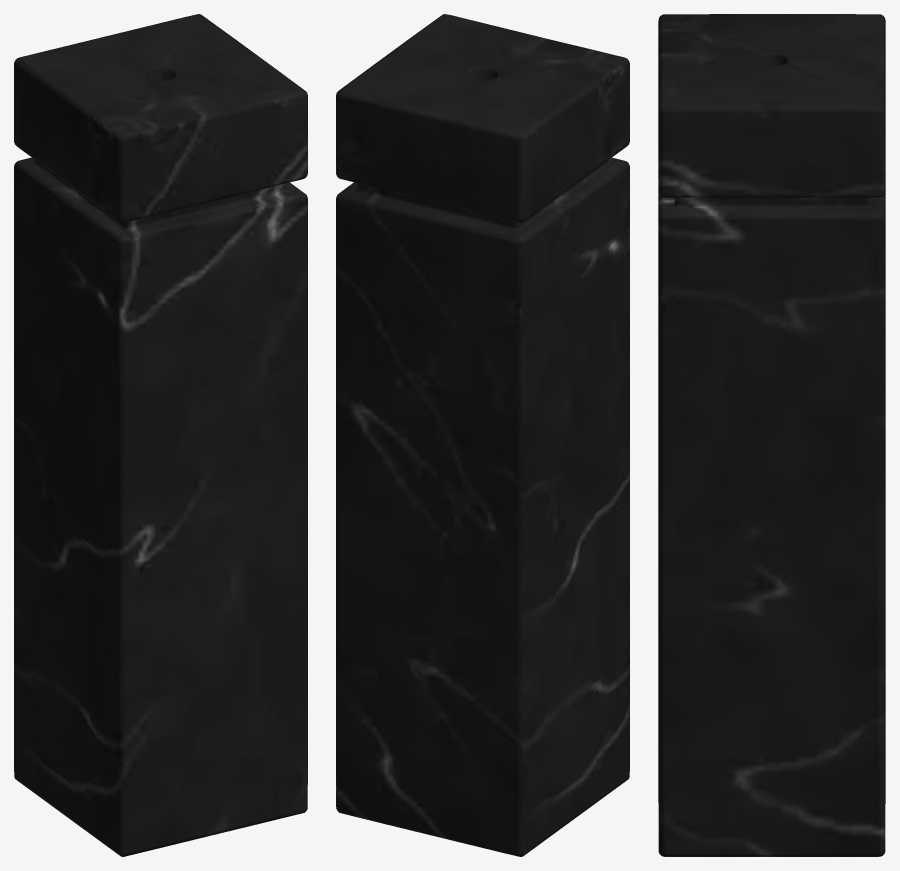
File: dama_cerny.glb
3 renders of one model, left to right at view 1: azimuth 30°, elevation 25°; view 2: azimuth 150°, elevation 25°; view 3: azimuth 270°, elevation 25°, orthographic. The views are drawn at different scales.
Parts seen in each view (by area): view 1: dama_cerny; view 2: dama_cerny; view 3: dama_cerny.
Part boxes in pixels (x1,y1,x2,y2): dama_cerny: [14, 14, 307, 856]; dama_cerny: [336, 14, 629, 856]; dama_cerny: [658, 14, 885, 856].
Bounding box in the file's own units: 0.024 × 0.0876 × 0.024.
1 material, 1 textured.
